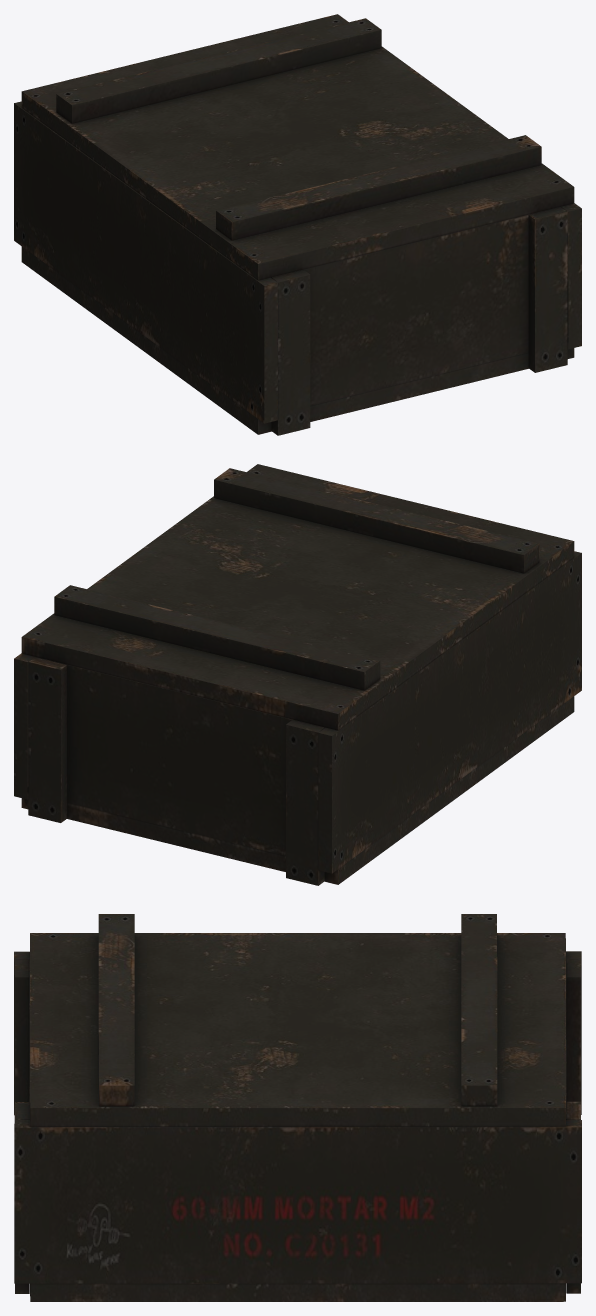
File: 弹药箱.FBX
3 views of the same model, one above another, from view 1: azimuth 30°, elevation 25°; view 2: azimuth 150°, elevation 25°; view 3: azimuth 270°, elevation 25° (orthographic). The views are drawn at different scales.
Parts seen in each view (by area): view 1: 弹药箱; view 2: 弹药箱; view 3: 弹药箱.
Boxes of the visible parts, x1,y1,x2,y2 form: 弹药箱: [14, 14, 581, 435]; 弹药箱: [14, 464, 581, 885]; 弹药箱: [14, 914, 581, 1301].
Bounding box in the file's own units: 0.2639 × 0.1502 × 0.3596.
